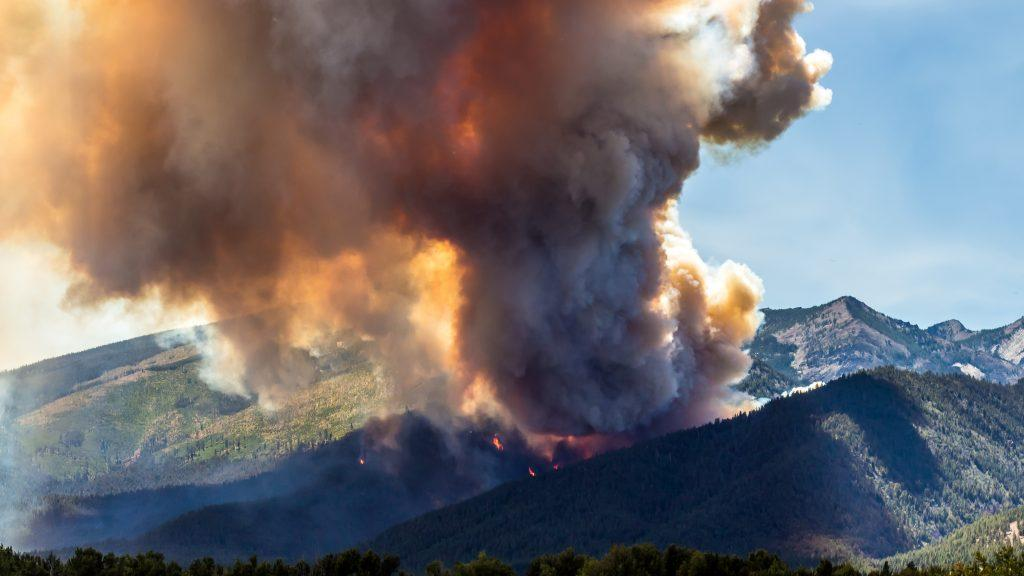smoke: (8, 2, 827, 459)
